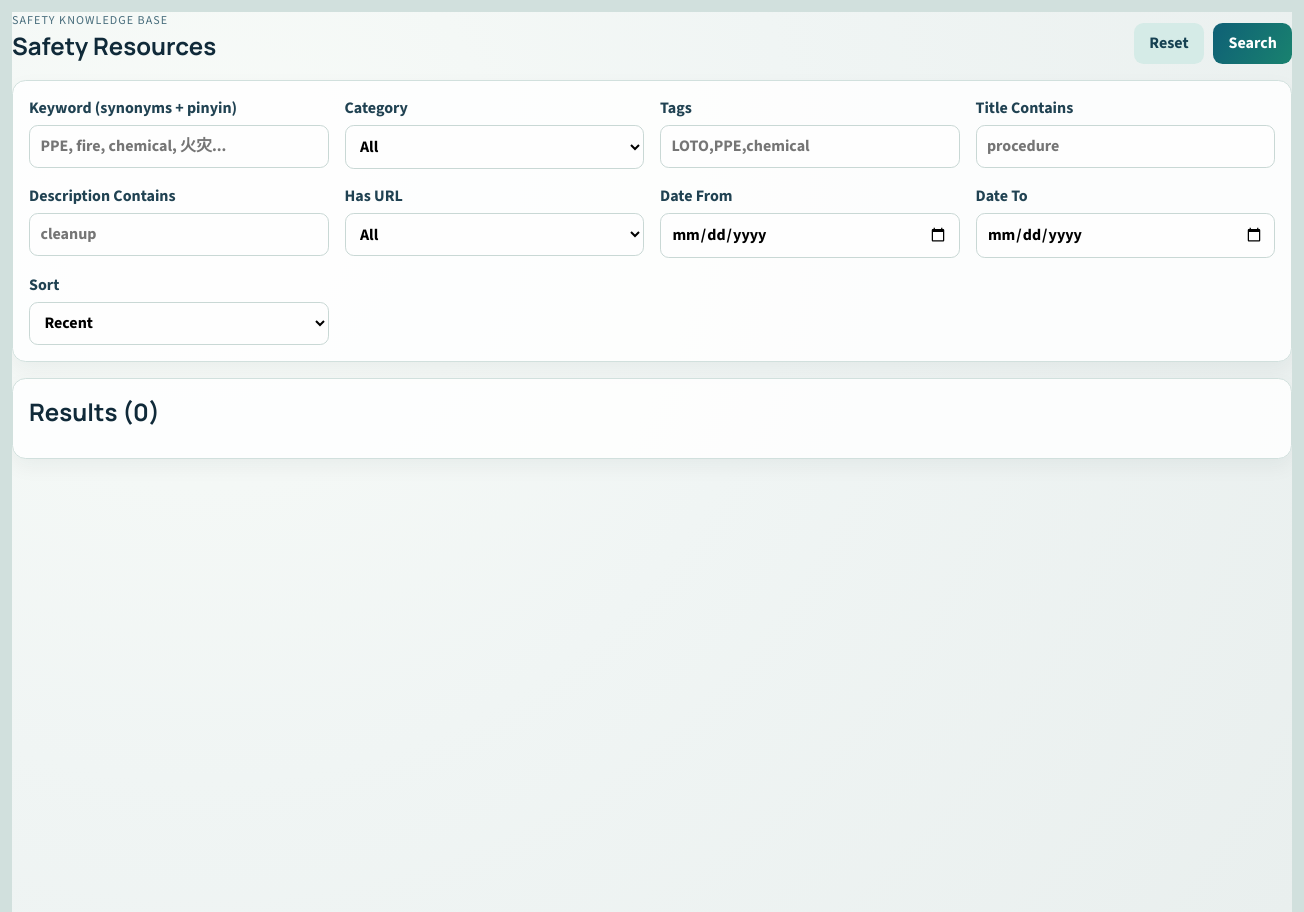
Test: Resources.vue › shows error message on API failure
The image size is (1304, 912).
Click the button "Search" at (1253, 44), box [1213,23,1292,64]
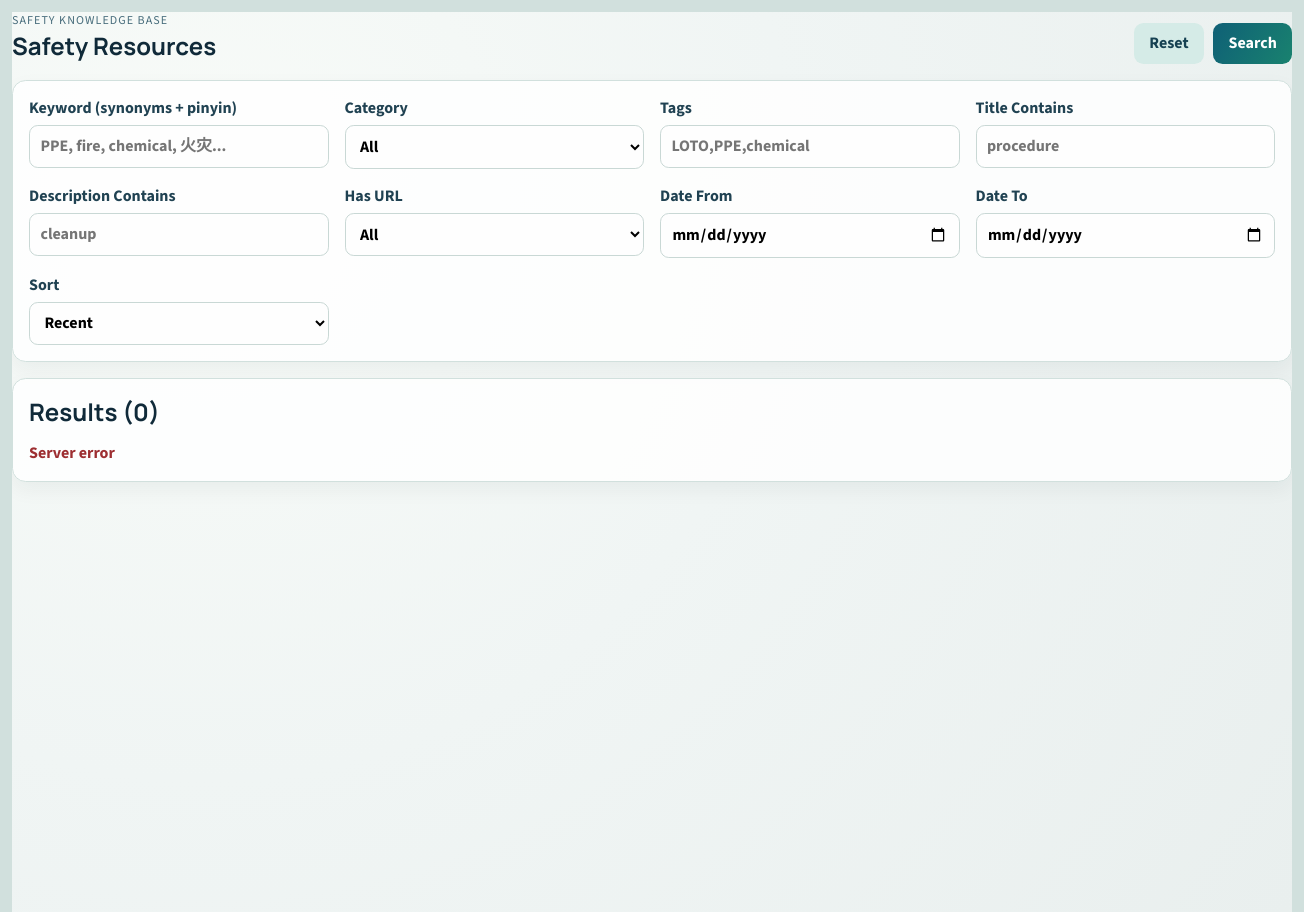
Now the text "Server error" is shown, box [29,442,115,464]
